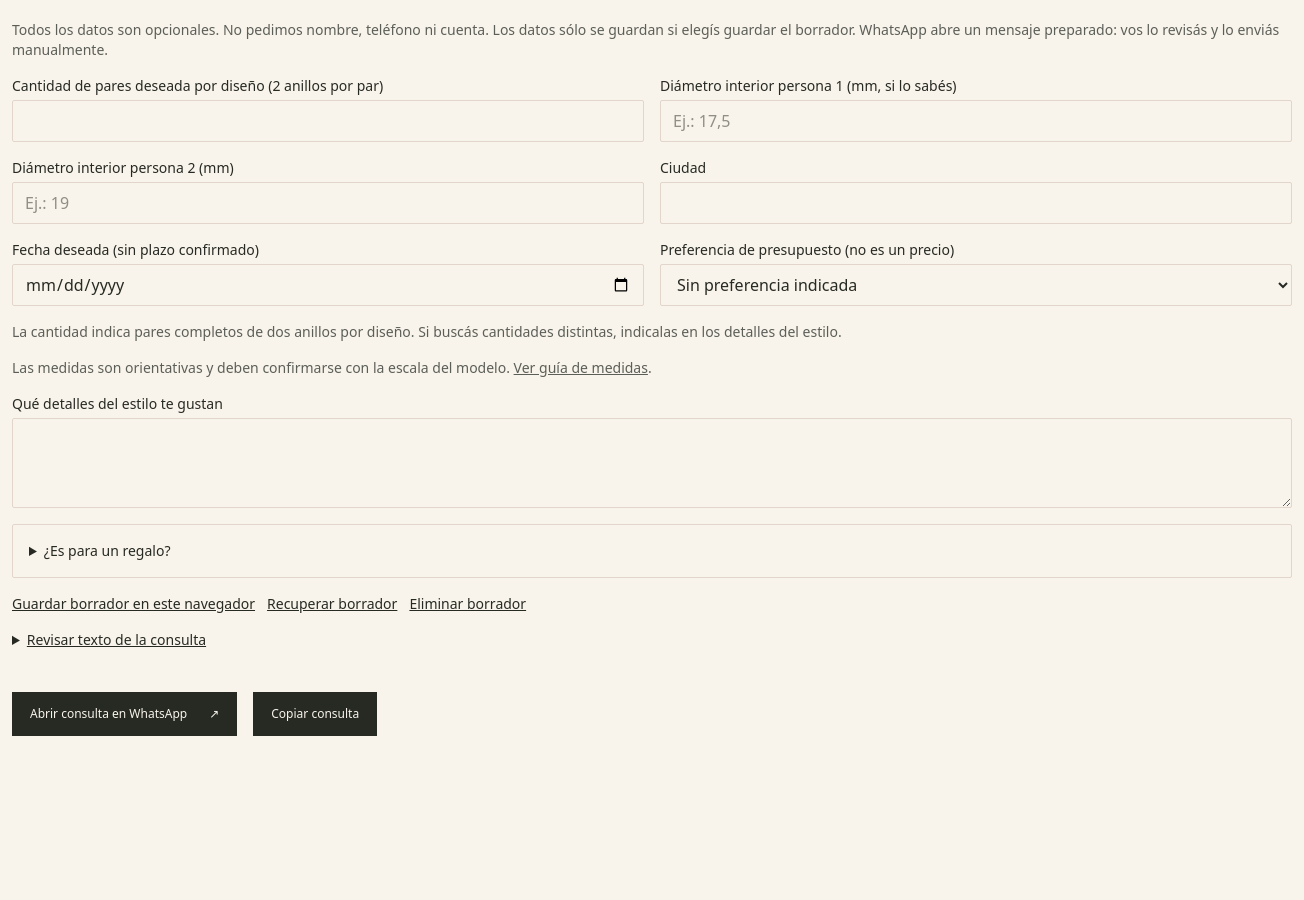
Test case: optional enquiry composer › recovers drafts only on request and leaves invalid inputs out of the sending flow
Expected: the field labelled "Ciudad" is empty, [660,182,1292,224]
Click the button "Recuperar borrador" at (332, 604), box [267,594,397,614]
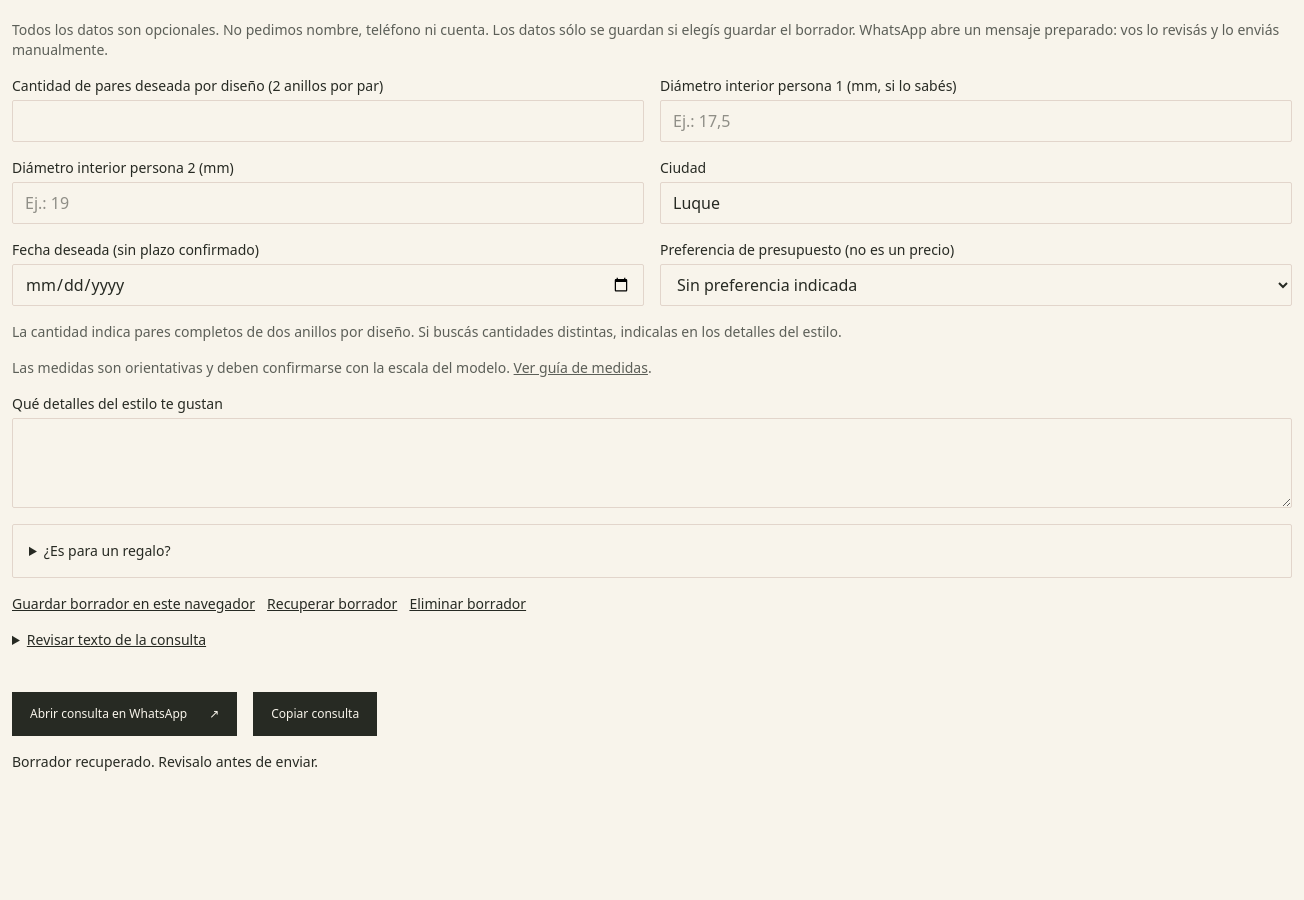
Expected: the field labelled "Ciudad" holds "Luque", [660,182,1292,224]
Type "2" into the field labelled "Diámetro interior persona 2 (mm)" at (328, 203), box [12,182,644,224]
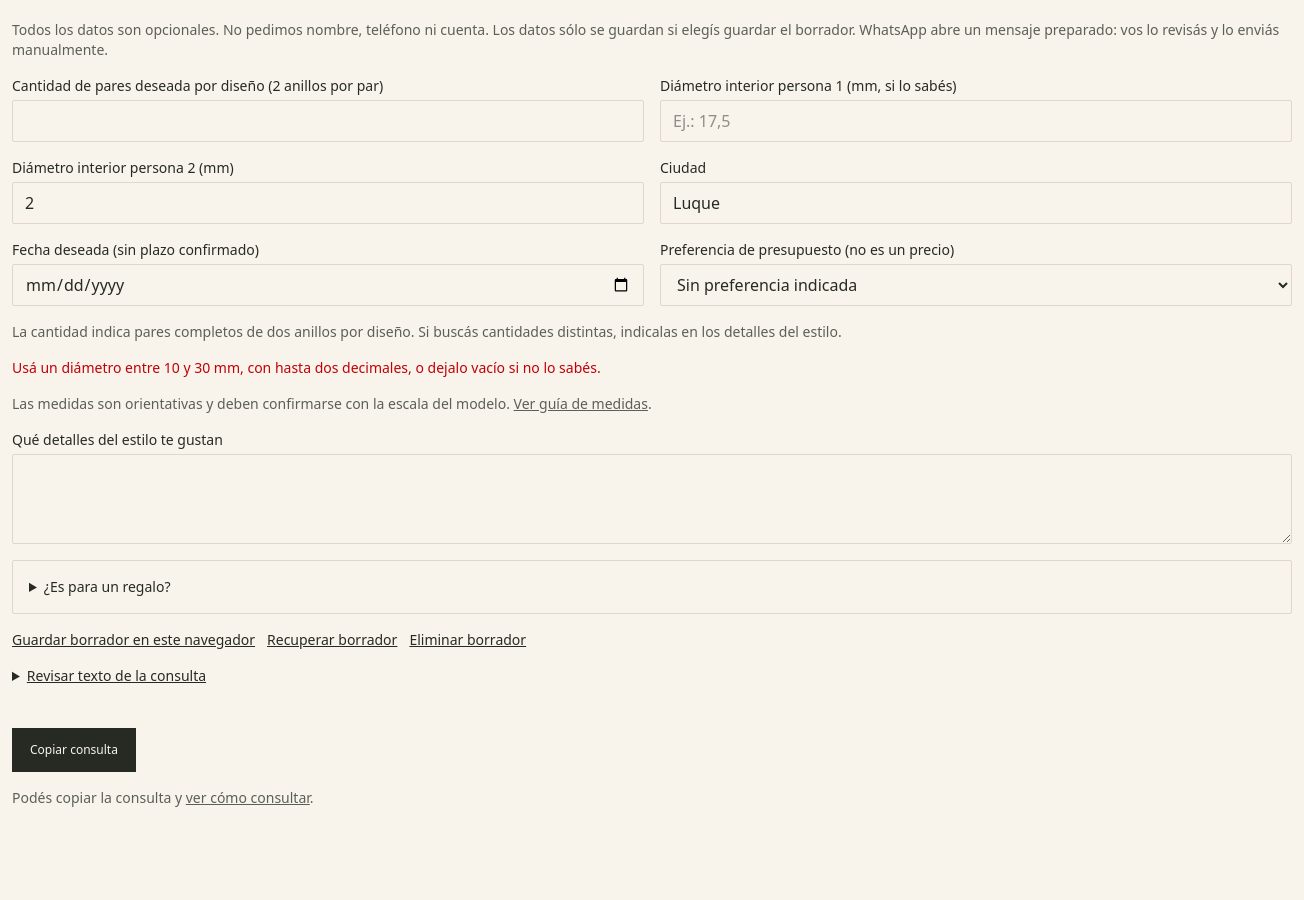
Expected: the message shows "entre 10 y 30 mm", [12,358,601,377]
Expected: the link with test id "product-enquiry-brief-link" is gone
Expected: the button "Copiar consulta" is disabled, [12,728,136,772]
